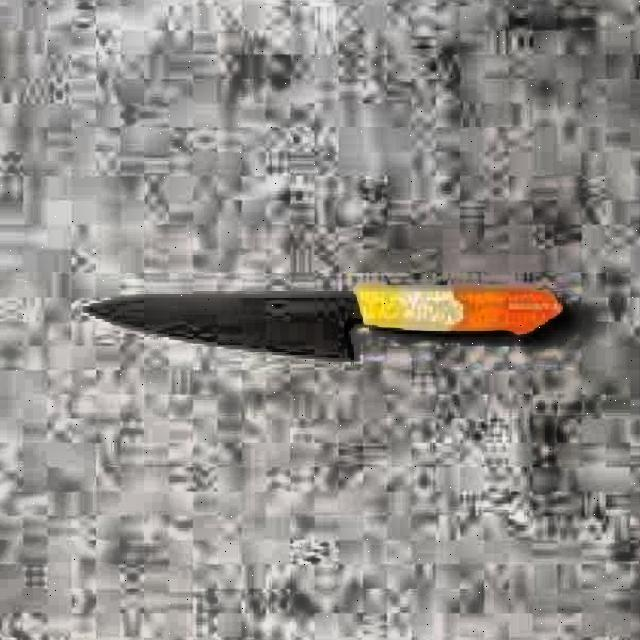knife: (85, 286, 575, 364)
